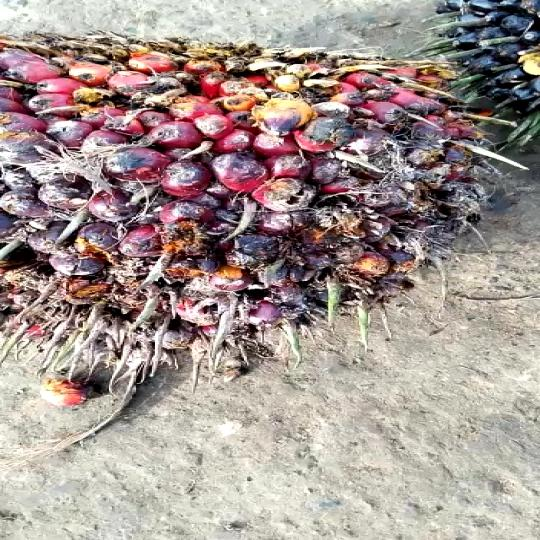masak: (0, 2, 487, 385)
